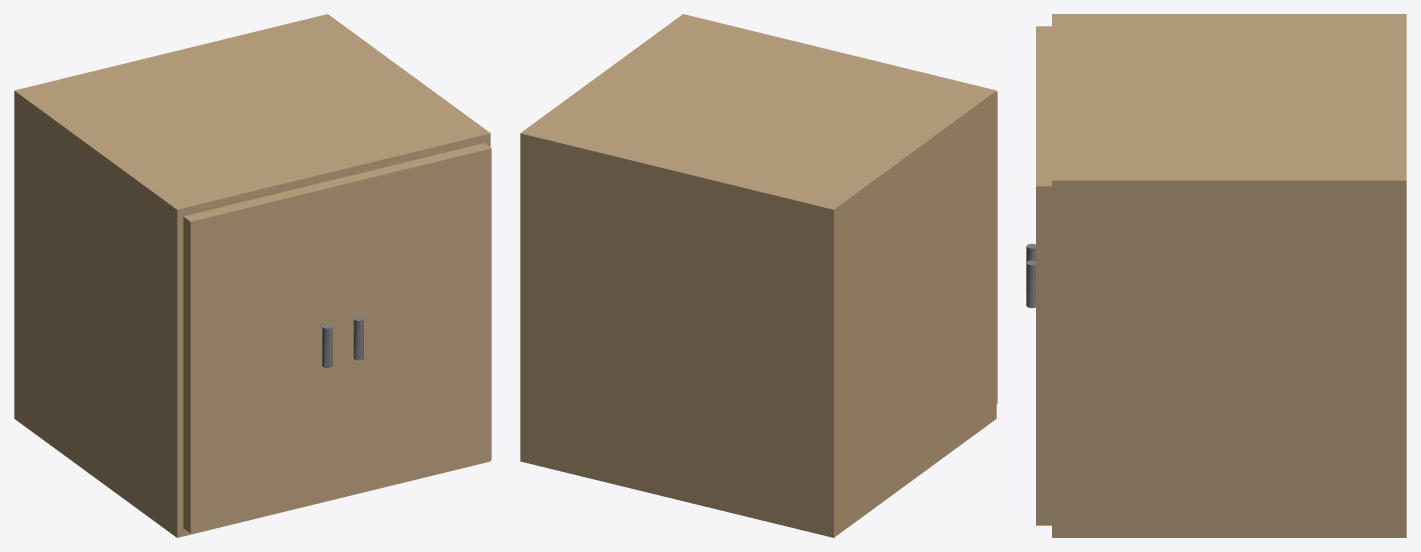
File: wardrobe.gltf
3 views of the same model, side by side, from view 1: azimuth 30°, elevation 25°; view 2: azimuth 150°, elevation 25°; view 3: azimuth 270°, elevation 25° (orthographic). The views are drawn at different scales.
Parts seen in each view (by area): view 1: body, door_L, door_R; view 2: body, door_L; view 3: body, door_R, door_L, handle_R.
Boxes of the visible parts, <box> form: body: <box>14,14,490,537</box>; door_L: <box>183,180,341,533</box>; door_R: <box>334,143,491,496</box>; body: <box>520,14,996,537</box>; door_L: <box>996,91,997,403</box>; body: <box>1052,14,1406,537</box>; door_R: <box>1036,106,1051,525</box>; door_L: <box>1036,26,1051,106</box>; handle_R: <box>1026,260,1035,308</box>.
Size of the model in its own units: 1 by 1 by 0.965.
